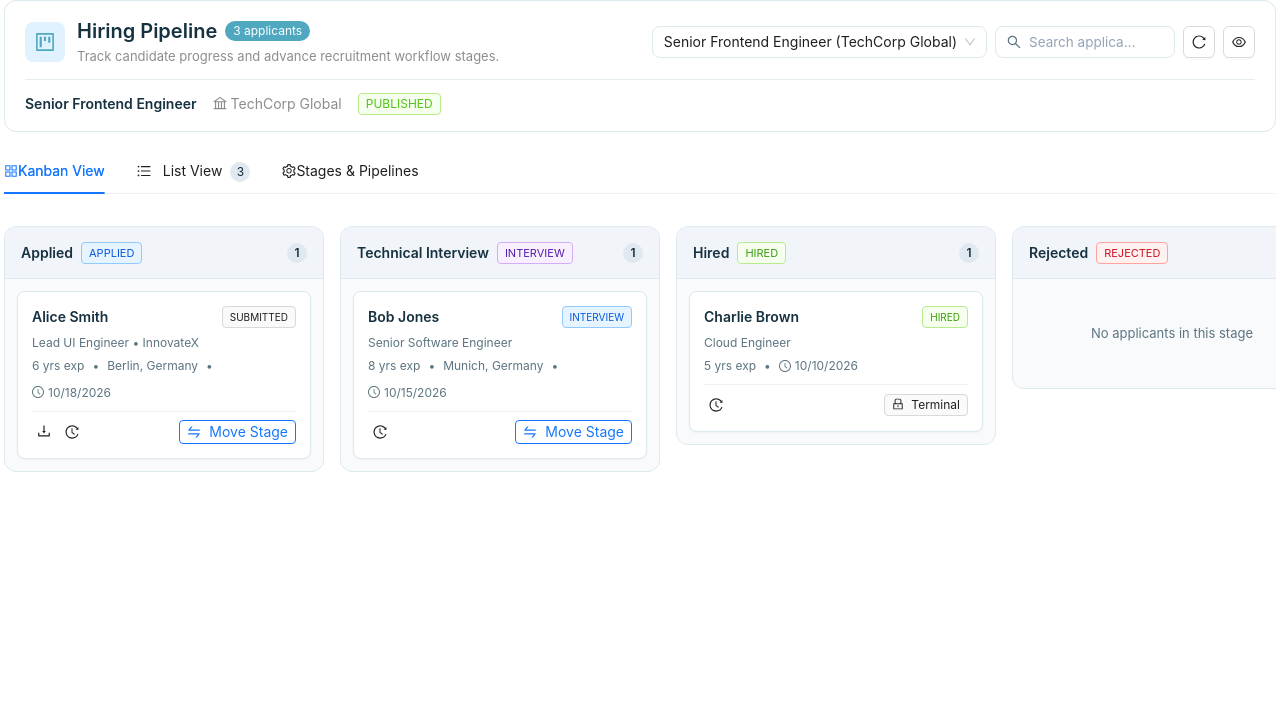
Scenario: RecruTrain Phase 2: Hiring Pipeline Frontend Test Suite › 7. Stage Transitions, Rejection Reason & Concurrency › requires rejection reason when moving to Rejected stage
Check: the link "Alice Smith" is shown, box [32,306,108,328]
Click the button with test id "move-btn-app-1" at [238, 432], box [179,420,296,444]
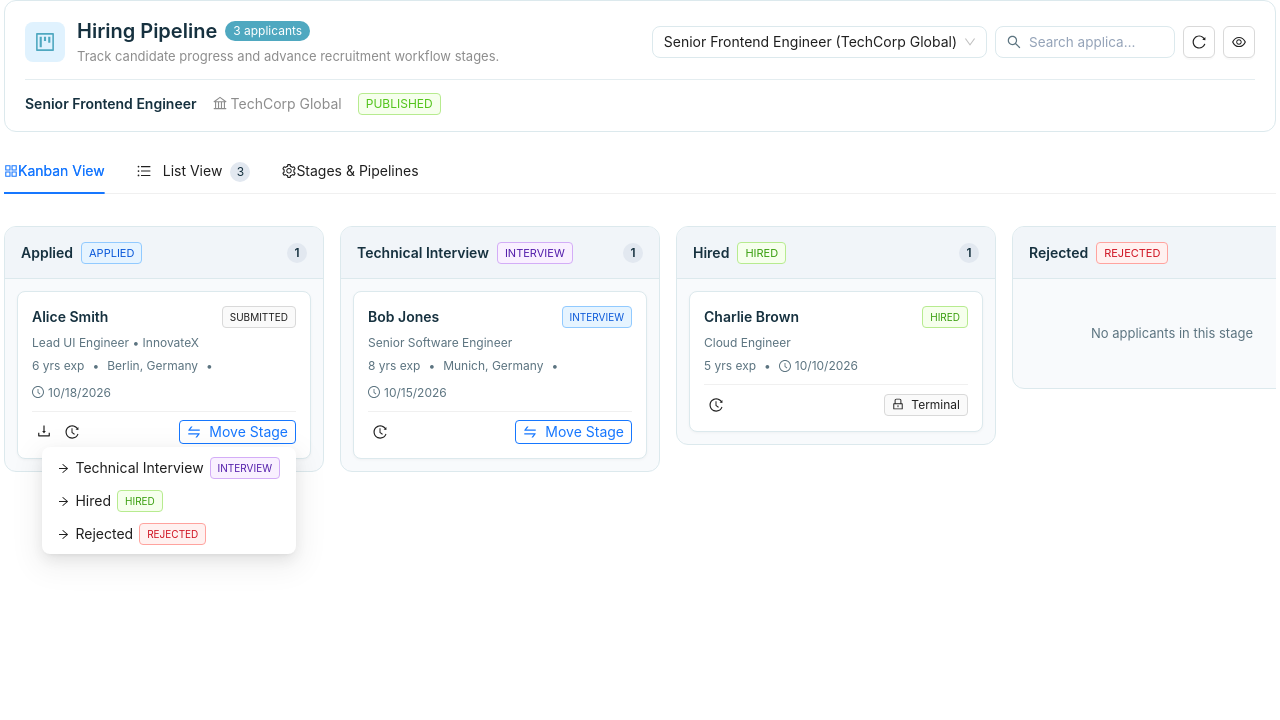
Check: the element with test id "move-to-stage-stage-4" is shown
Click the menu item with test id "move-to-stage-stage-4" at [132, 534], box [58,523,206,545]
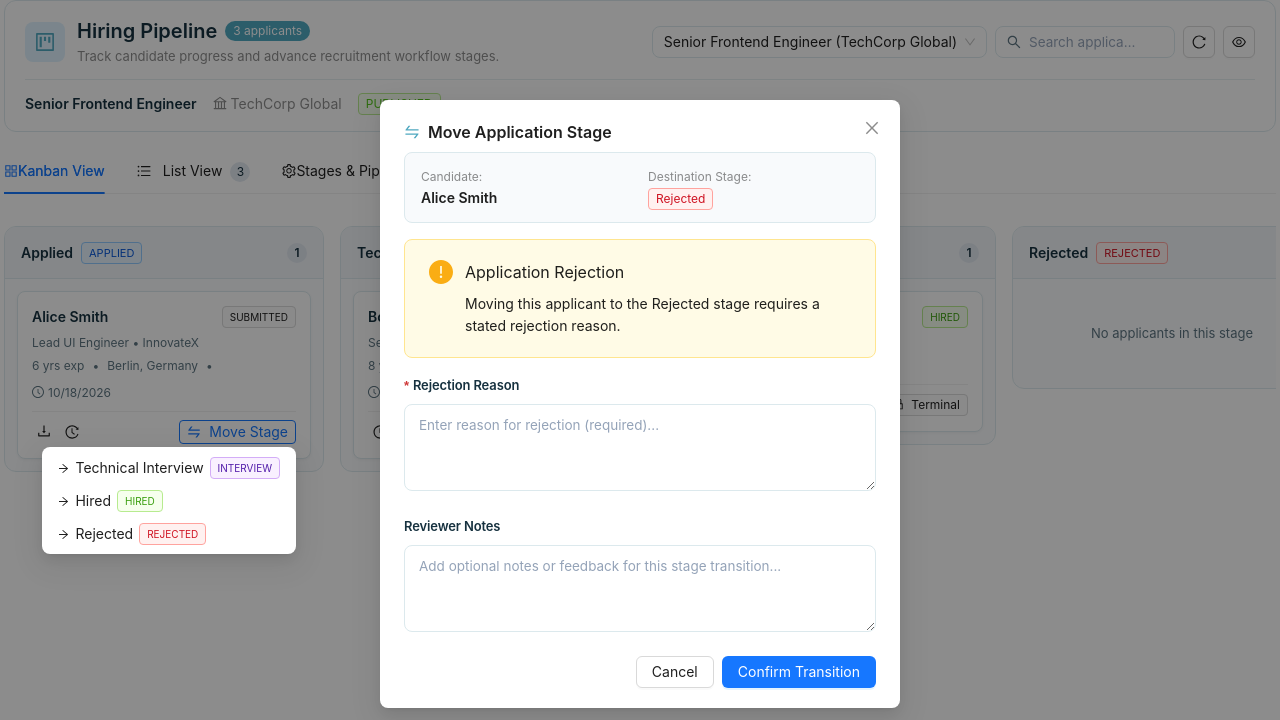
Check: the text "Application Rejection" is shown, box [465,262,624,282]
Click the button "Confirm Transition" at [799, 672], box [722,656,876,688]
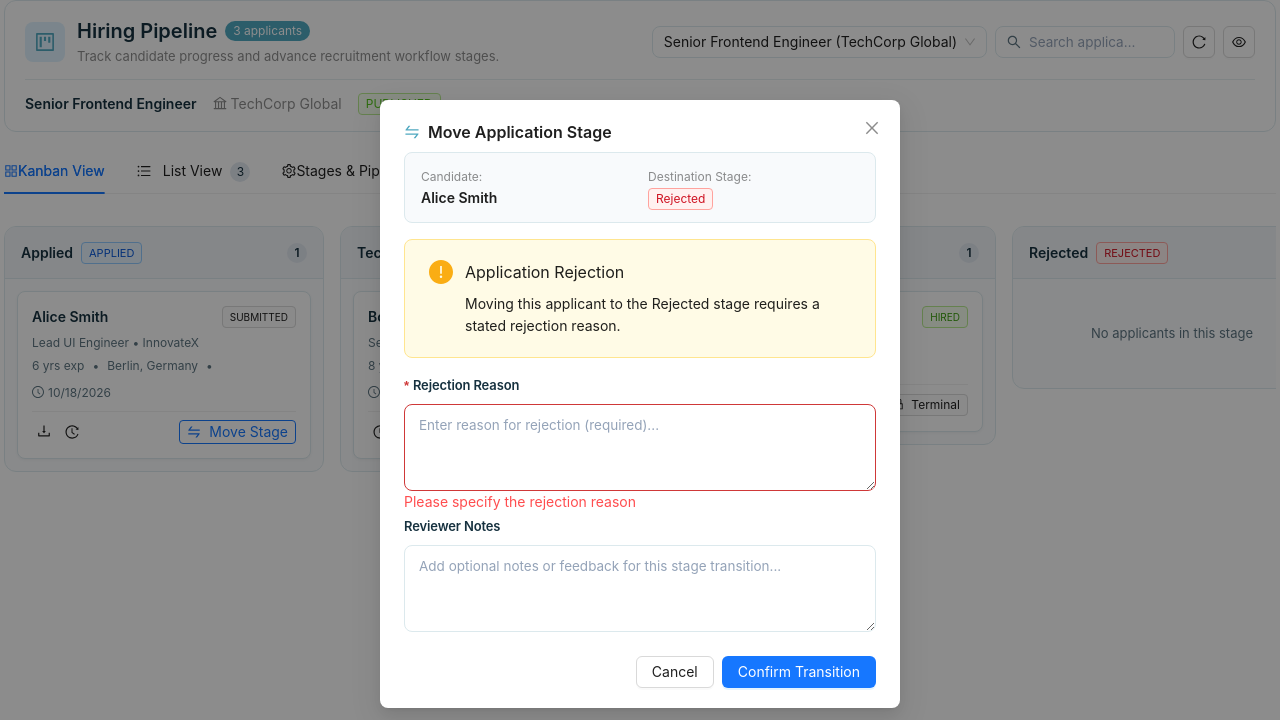
Check: the text "Please specify the rejection reason" is shown, box [404,493,636,510]
